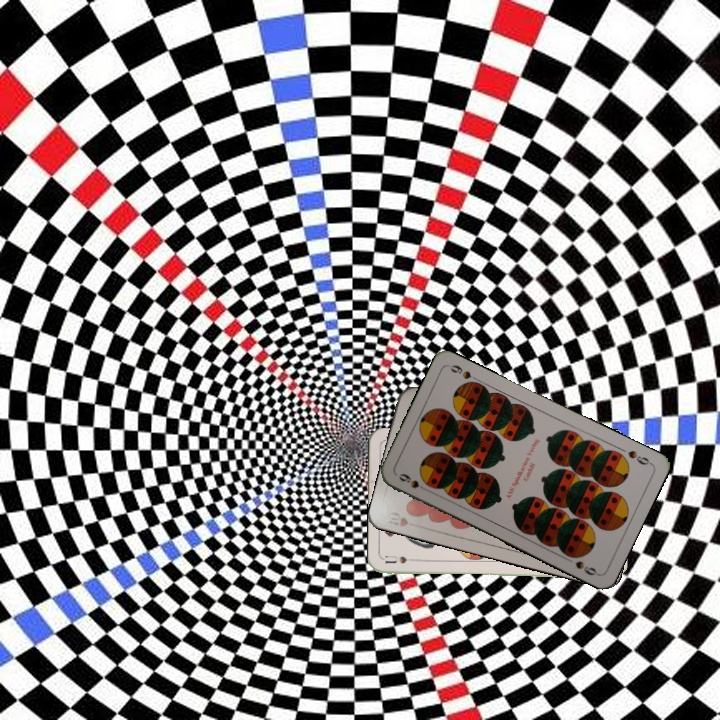H10: (383, 507, 411, 529)
S9: (395, 469, 431, 494), (624, 446, 654, 468)
SU: (382, 552, 423, 566)
